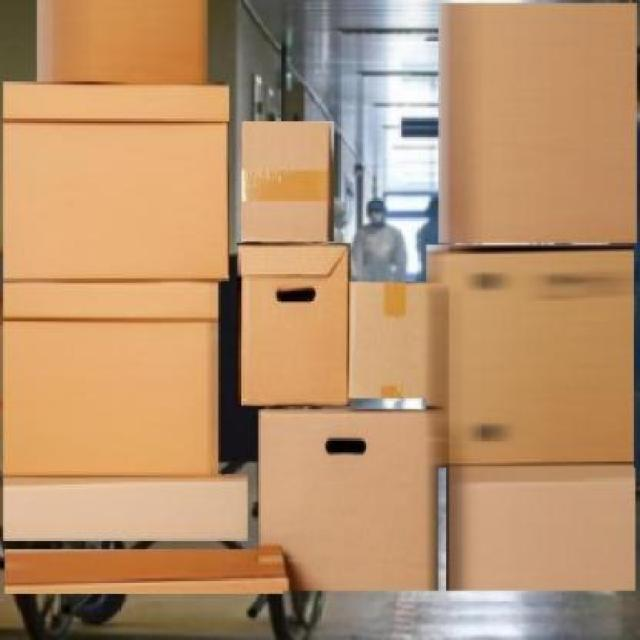box: (435, 0, 640, 246), (424, 243, 638, 472), (0, 80, 234, 285), (0, 279, 223, 483), (256, 407, 442, 595), (444, 466, 638, 594), (235, 242, 354, 409), (0, 473, 252, 541), (34, 0, 211, 89), (0, 549, 289, 596), (239, 119, 336, 244), (347, 280, 438, 402)
